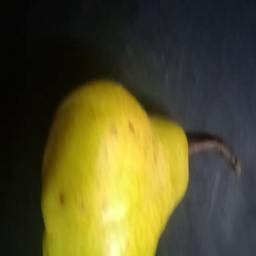Pear Fresh: (23, 67, 247, 256)
